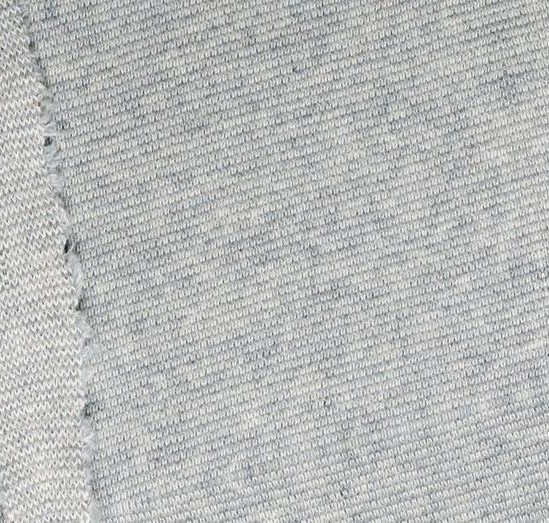slub: (17, 3, 113, 517)
